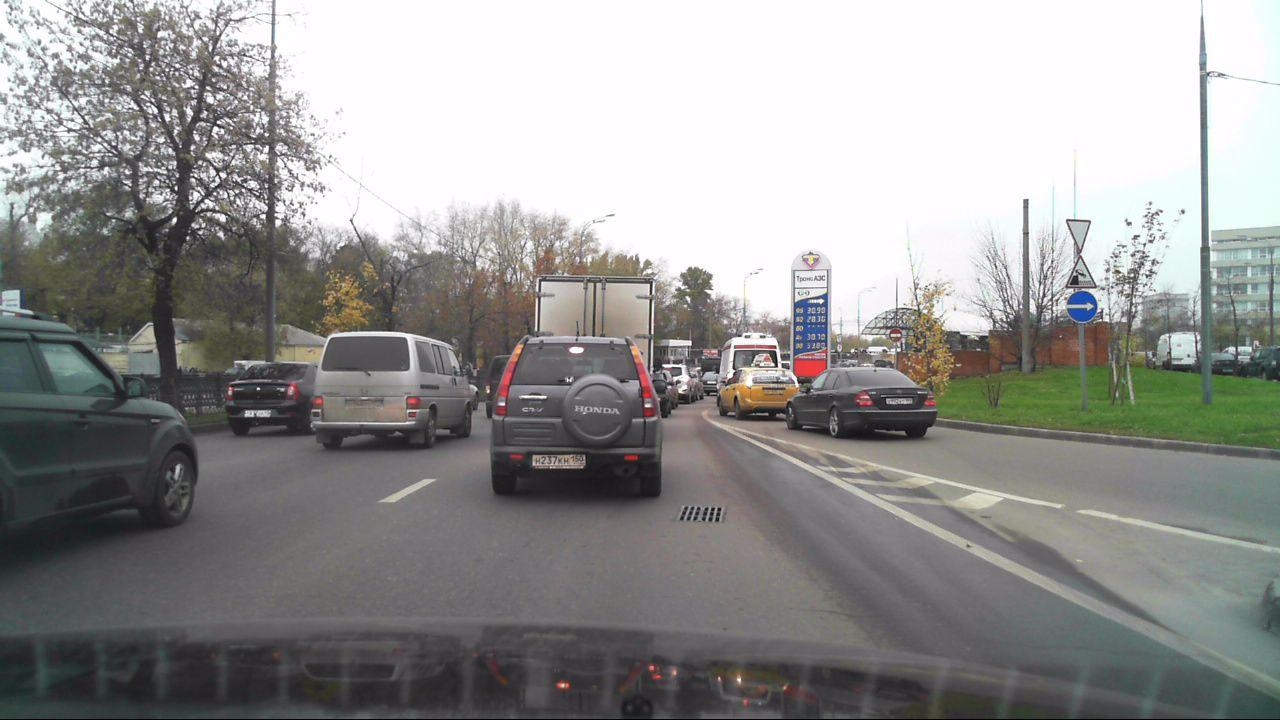1_10: (1063, 253, 1097, 289)
2_4: (1065, 217, 1090, 251)
3_1: (888, 328, 903, 343)
4_2_1: (1065, 291, 1098, 322)
